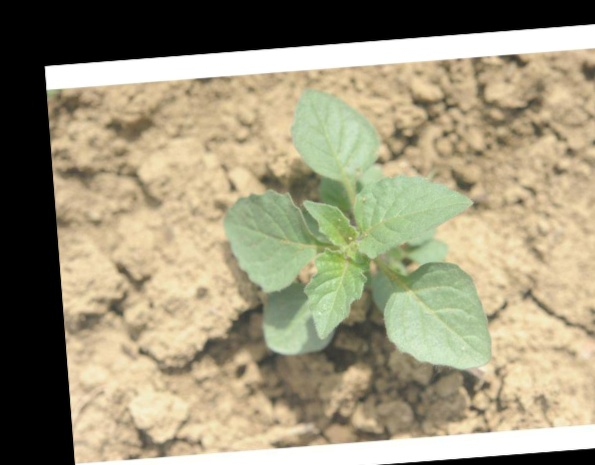nightshade: (227, 84, 482, 378)
